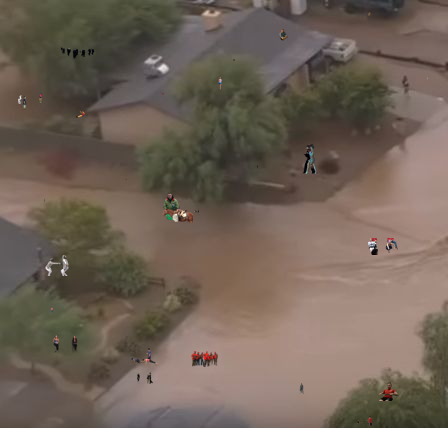Human: (368, 238, 398, 255), (52, 335, 80, 353), (45, 255, 69, 276), (130, 348, 158, 366), (162, 207, 193, 223), (302, 144, 318, 175), (58, 46, 95, 59), (191, 351, 221, 367), (163, 192, 180, 220), (377, 382, 399, 401), (23, 93, 43, 110), (137, 372, 153, 384), (357, 416, 372, 426), (279, 29, 288, 41), (76, 111, 85, 118), (299, 383, 304, 394), (218, 77, 222, 90), (18, 95, 22, 104), (50, 307, 54, 314), (194, 210, 199, 213), (368, 12, 371, 16), (162, 93, 164, 95), (233, 59, 235, 61), (257, 164, 258, 168), (44, 198, 45, 202), (125, 179, 127, 181), (427, 77, 428, 80), (87, 249, 88, 251)
